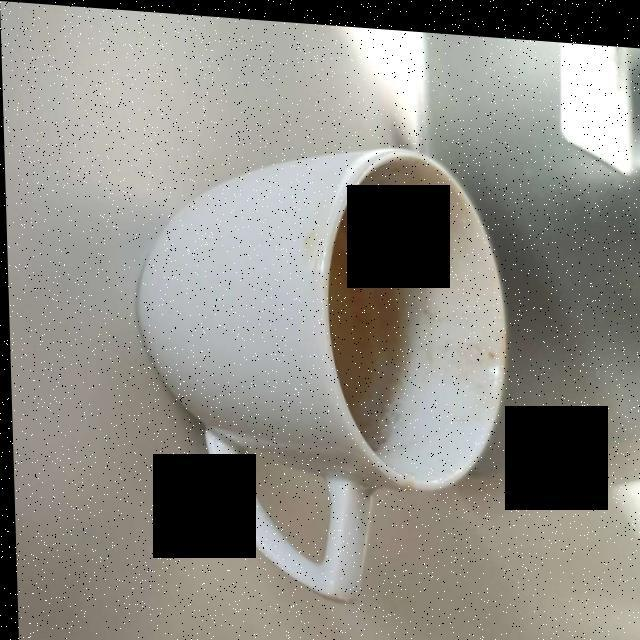coffee: (328, 200, 402, 426), (334, 205, 404, 428)
